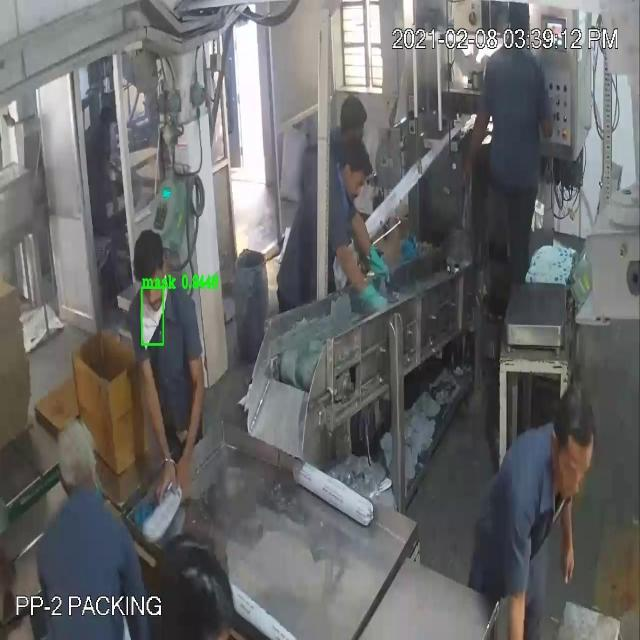No_Gloves: (35, 74, 371, 424)
